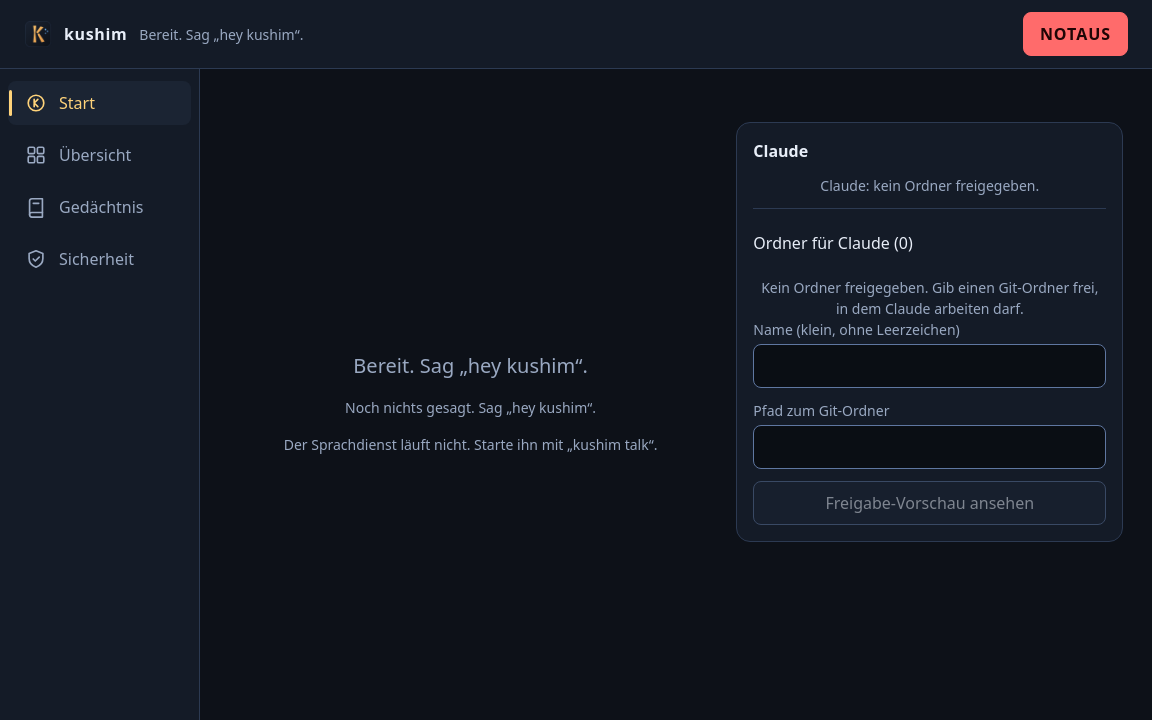
Scenario: Sicherheitsstatus › warnt bei alter Sicherung und fehlendem Vault
The width and height of the screenshot is (1152, 720).
What coordinates should you click on to do the following:
click the button "Sicherheit"
I would click on:
 (100, 259)
Its box is 8,237 -> 191,281.
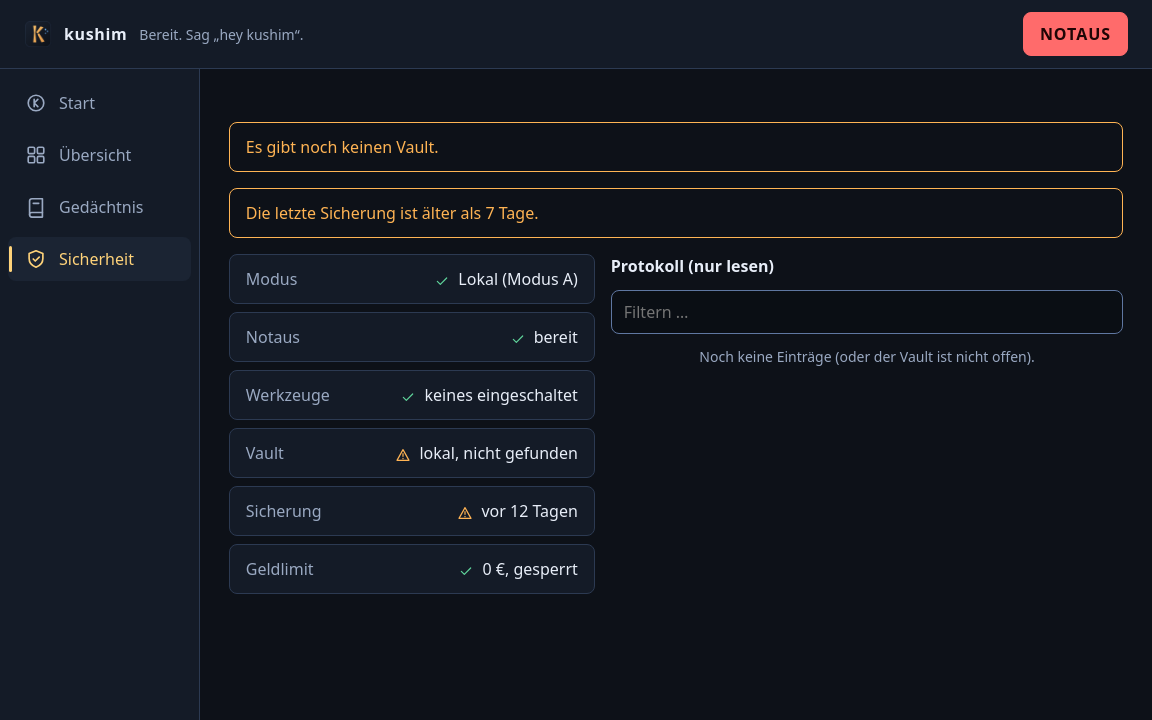
Now the element named "Sicherheitsstatus" is shown, box 229,122 -> 1123,594
Now the text "Die letzte Sicherung ist älter als 7 Tage." is shown, box 229,188 -> 1123,238
Now the text "Es gibt noch keinen Vault." is shown, box 229,122 -> 1123,172
